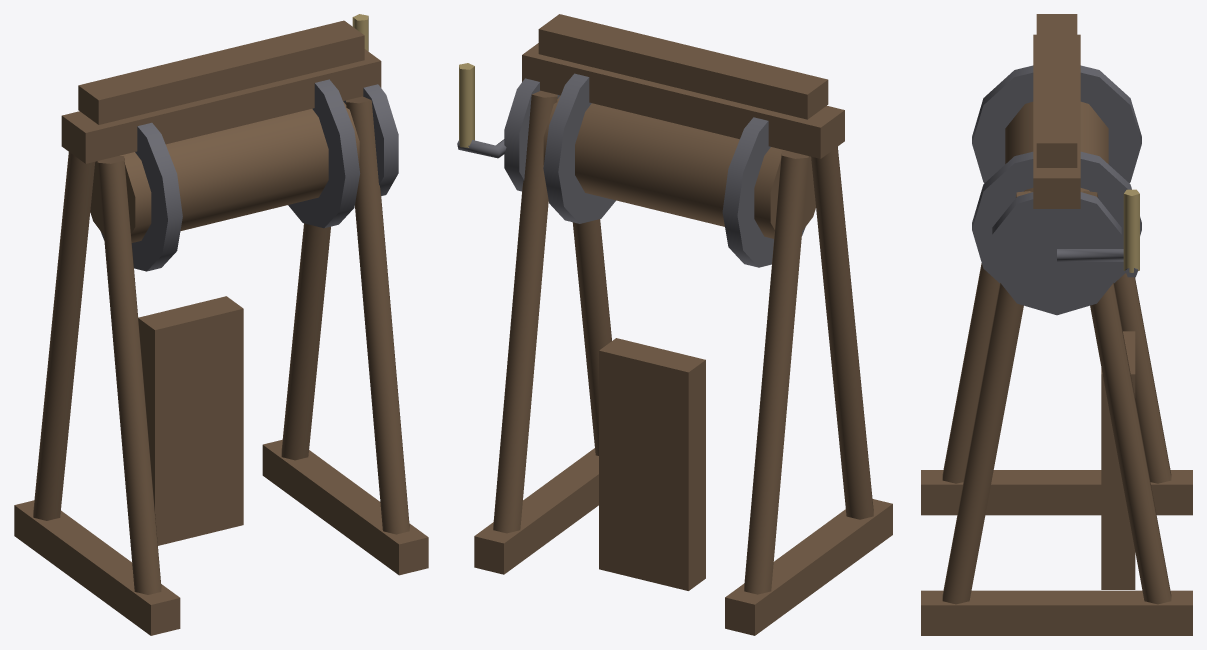
File: Winch.fbx
3 renders of one model, left to right at view 1: azimuth 30°, elevation 25°; view 2: azimuth 150°, elevation 25°; view 3: azimuth 270°, elevation 25°, orthographic.
Parts seen in each view (by area): view 1: Winch; view 2: Winch; view 3: Winch.
Boxes of the visible parts, x1,y1,x2,y2 form: Winch: (14,14,428,635); Winch: (457,14,892,635); Winch: (921,14,1192,635).
Bounding box in the file's own units: 1.12 × 1.59 × 0.8.
